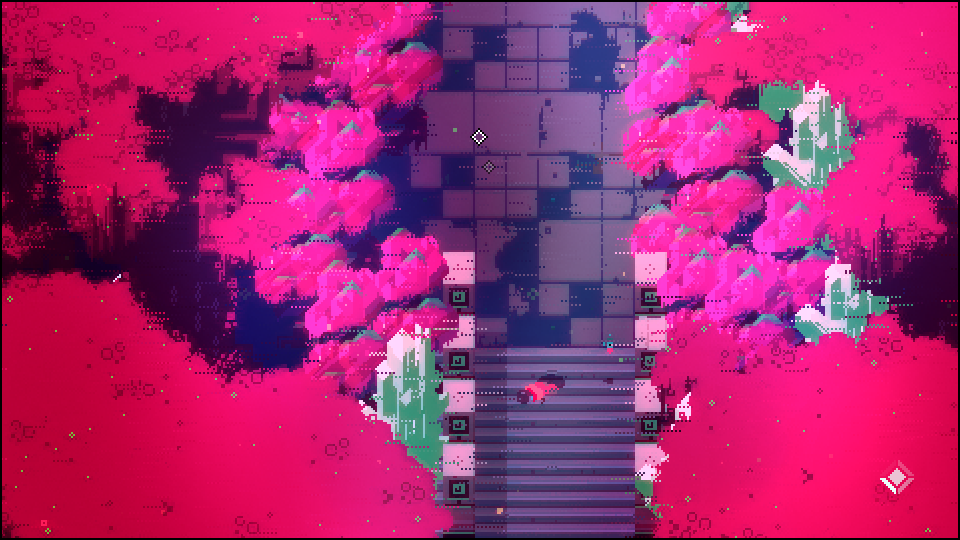player: (516, 378, 564, 405)
